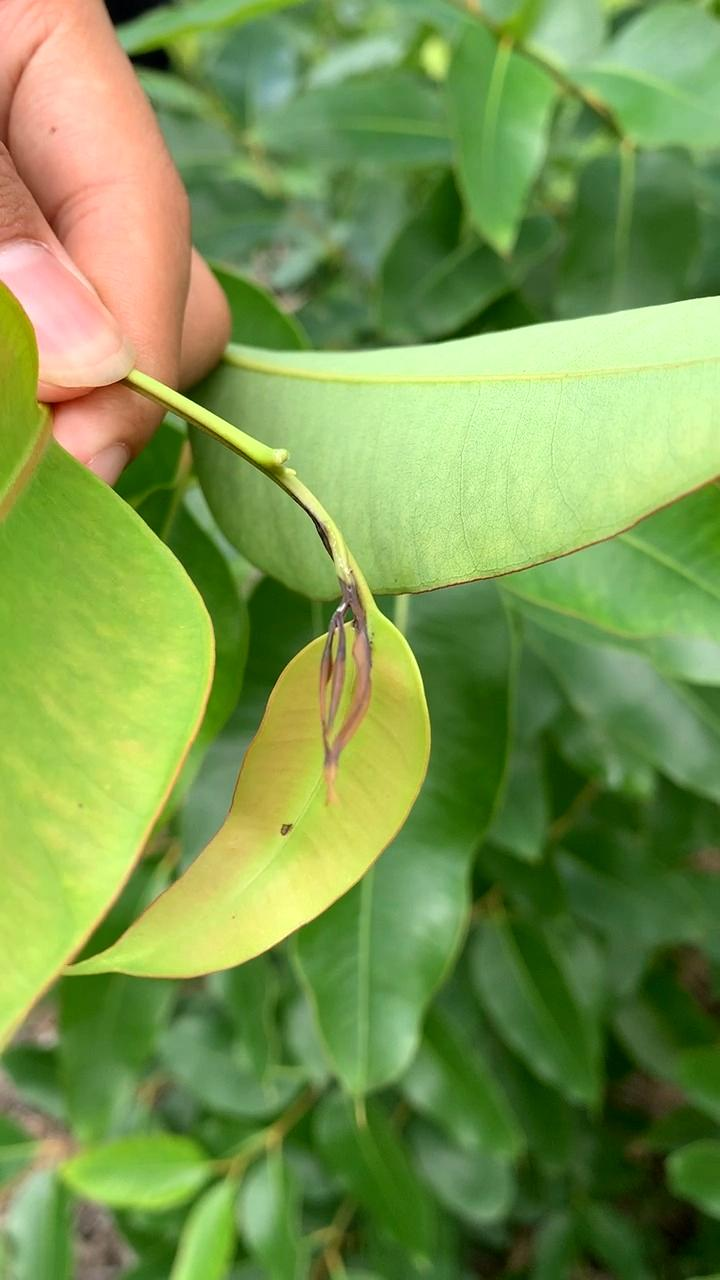Helopeltis-Withered Sprout: (286, 563, 401, 815)
